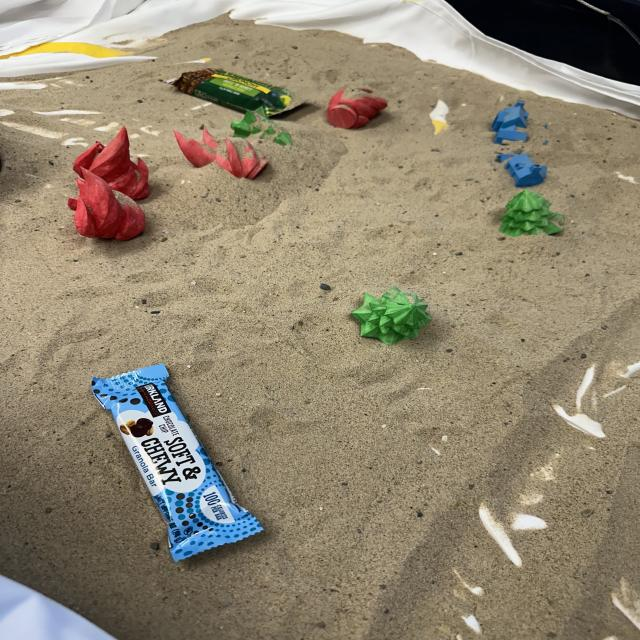fire: (66, 166, 146, 242), (169, 126, 271, 180), (76, 127, 152, 199), (326, 88, 388, 130)
house: (489, 147, 550, 190), (487, 97, 535, 145)
tree: (350, 286, 432, 346), (498, 188, 564, 238), (230, 108, 296, 149)
